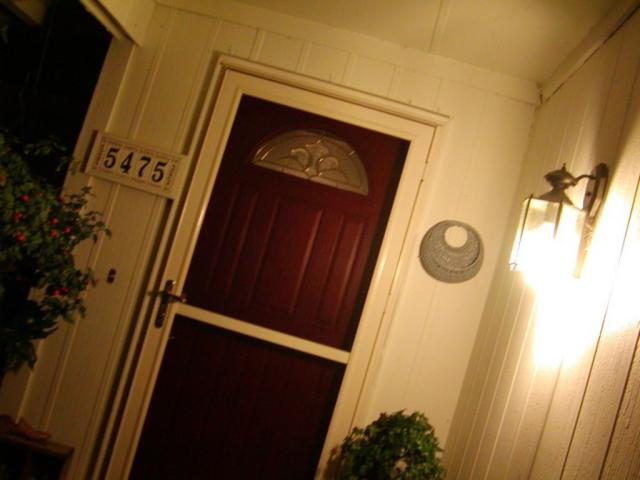Door-handle: (153, 279, 190, 327)
